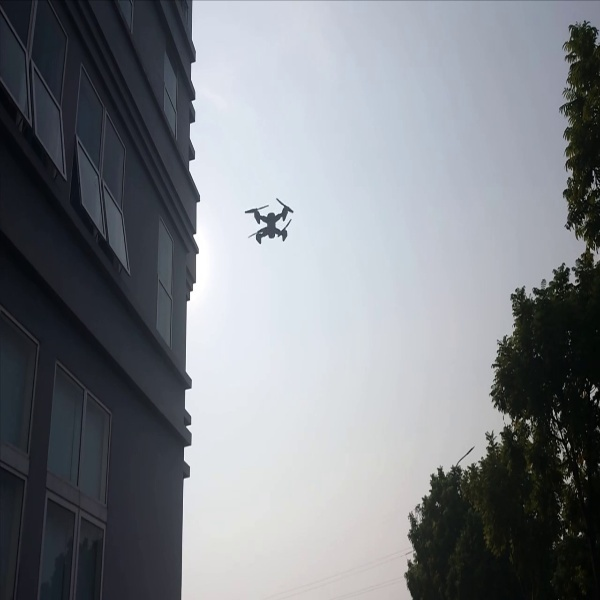drone: (242, 198, 297, 244)
